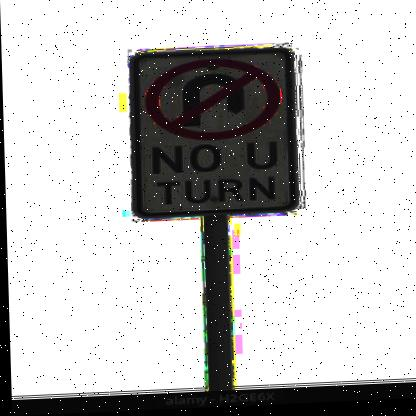No U-turn: (136, 58, 291, 143)
